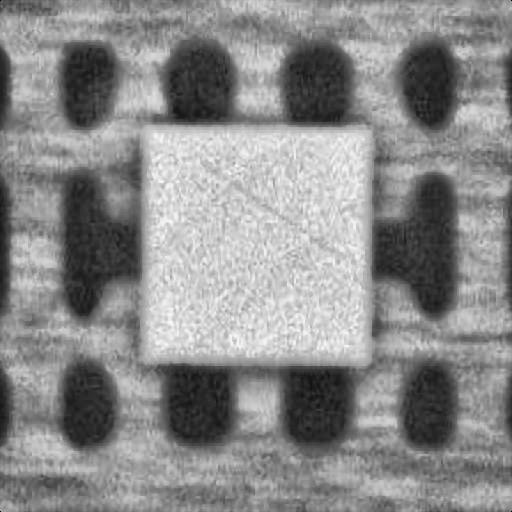DIE_CRACK: (297, 106, 512, 172)
